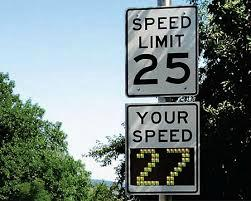speed limit sign: (124, 9, 199, 96)
